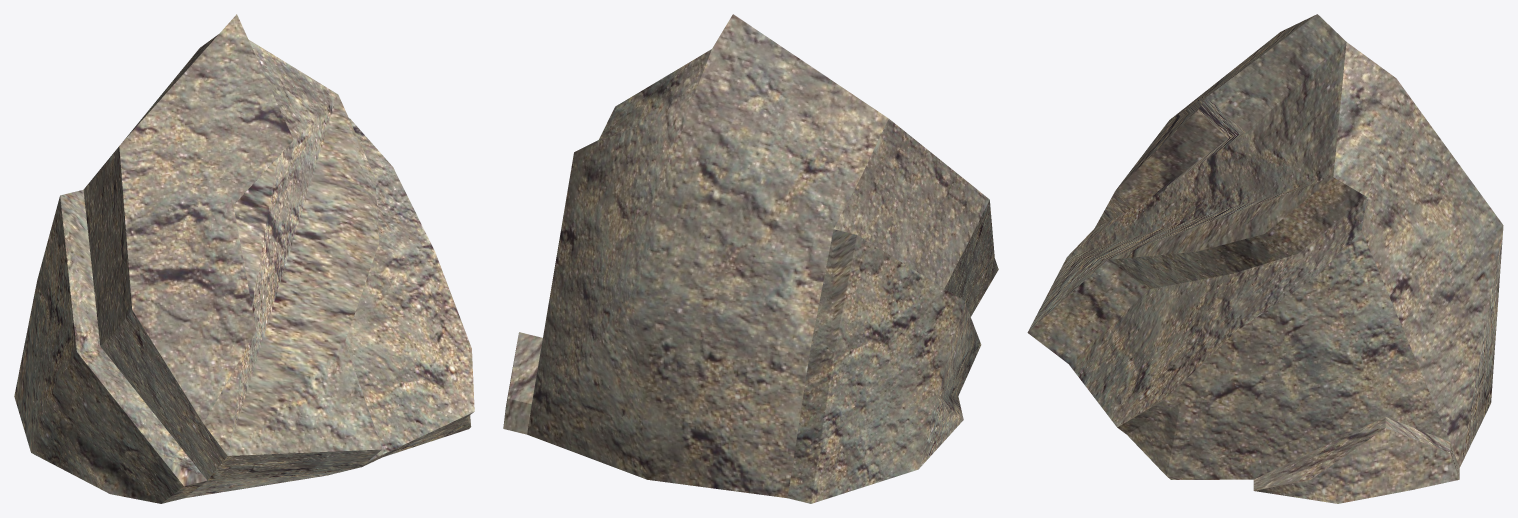
The model's file is rock_04.fbx.
The picture shows the model from 3 angles, left to right: view 1: azimuth 30°, elevation 25°; view 2: azimuth 150°, elevation 25°; view 3: azimuth 270°, elevation 25°; orthographic projection. The views are drawn at different scales.
Parts seen in each view (by area): view 1: rock04; view 2: rock04; view 3: rock04.
Part boxes in pixels (x1,y1,x2,y2): rock04: (14,14,474,503); rock04: (503,14,998,503); rock04: (1027,14,1503,503).
Bounding box in the file's own units: 6.77 × 6.39 × 7.05.
1 material, 1 textured.
